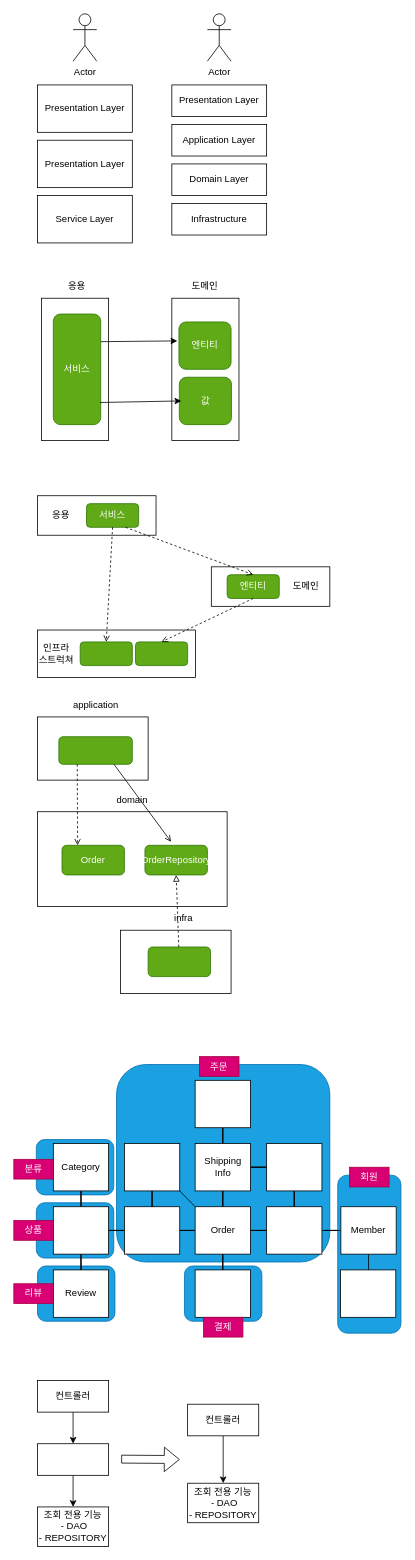
This 415x1560 diagram has some shape labels left out. The shapes that lost their labels are listed below. From the top down, each one's box as (x1, y1, x2, y2) in pixels, then its label:
(79, 641, 132, 666): DB 모듈
(135, 641, 188, 666): 룰 엔진
(58, 736, 132, 764): CancelOrderService
(147, 946, 211, 977): JpaOrderRepository
(194, 1080, 250, 1128): Address
(124, 1143, 180, 1191): Delivery Tracking
(266, 1143, 322, 1191): Receiver
(53, 1206, 109, 1254): Product
(124, 1206, 180, 1254): OrderLine
(266, 1206, 322, 1254): Orderer
(194, 1269, 250, 1317): Payment Info
(340, 1269, 396, 1317): Member Grade
(37, 1443, 109, 1475): 조회 응용 서비스
